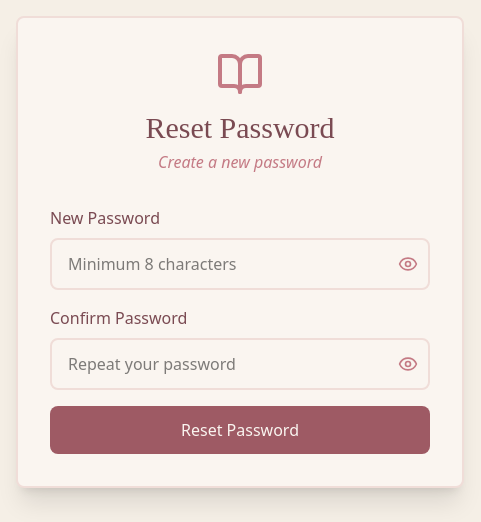
Test case: loading state › should disable the submit button and show Please wait while loading
The width and height of the screenshot is (481, 522).
Type "newpassword123" into the password field with placeholder "Minimum 8 characters". click: [240, 264]
box: [50,238,430,290]
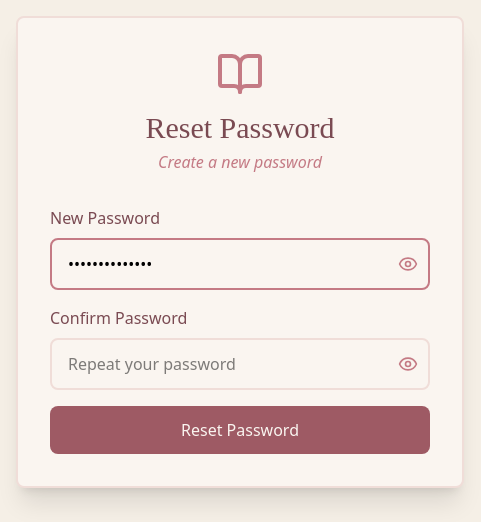
Type "newpassword123" into the password field with placeholder "Repeat your password". click: [240, 364]
box: [50,338,430,390]
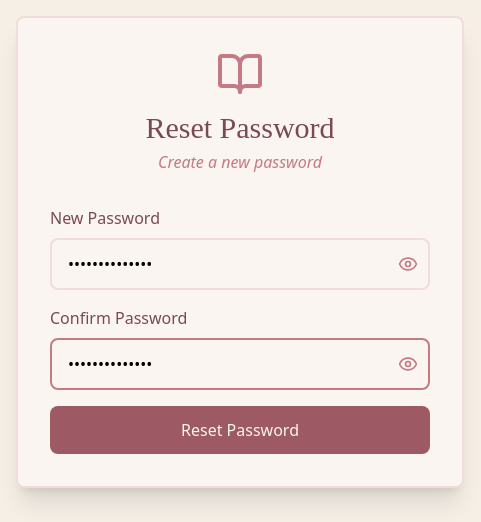
Click the button "Reset Password". click: [240, 430]
box: [50,406,430,454]
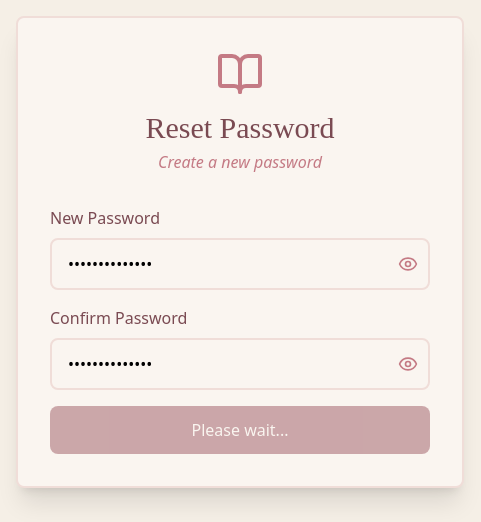
Expected: the button "Please wait..." is disabled, [50,406,430,454]
